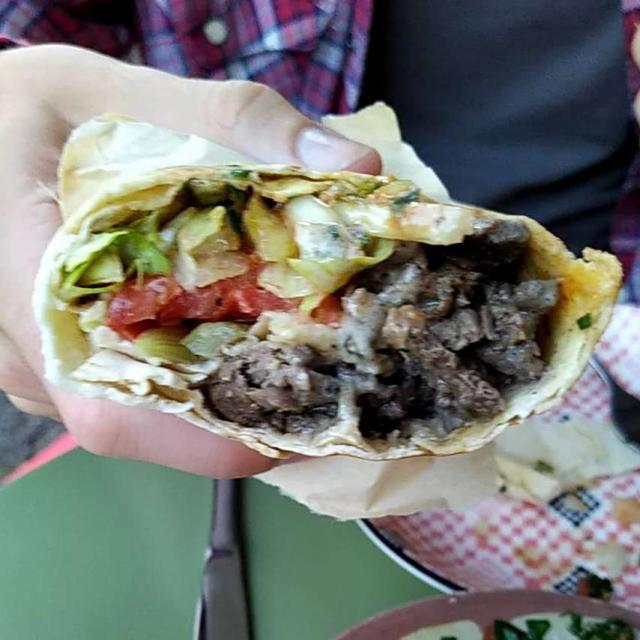kebab-in-pita-bread: (48, 146, 602, 439)
